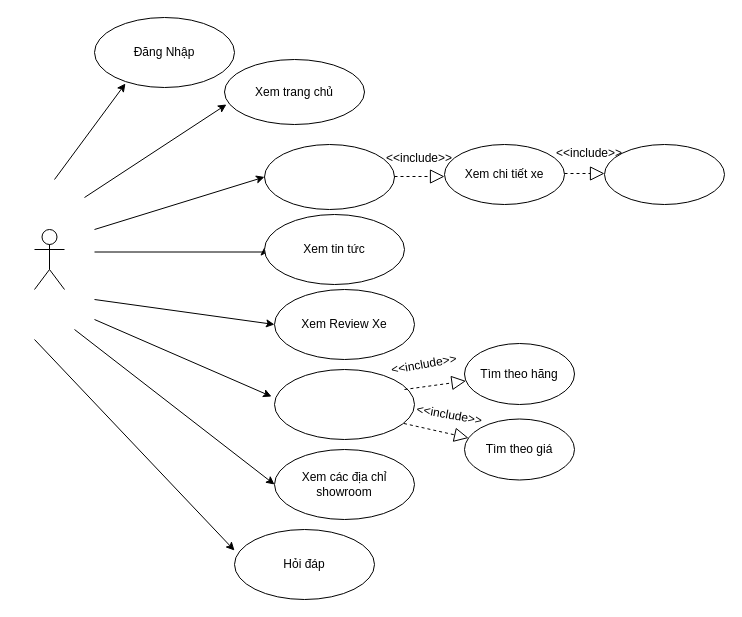
Image size: 742x617. Some labels were removed from this diagram. The centre of each missing label's shape, as x and y in pixels:
Khách hàng: the point at 49,259
Tìm Kiếm xe: the point at 344,404
Xem Các Loại Xe: the point at 329,177
Đặt lịch hẹn: the point at 664,174
